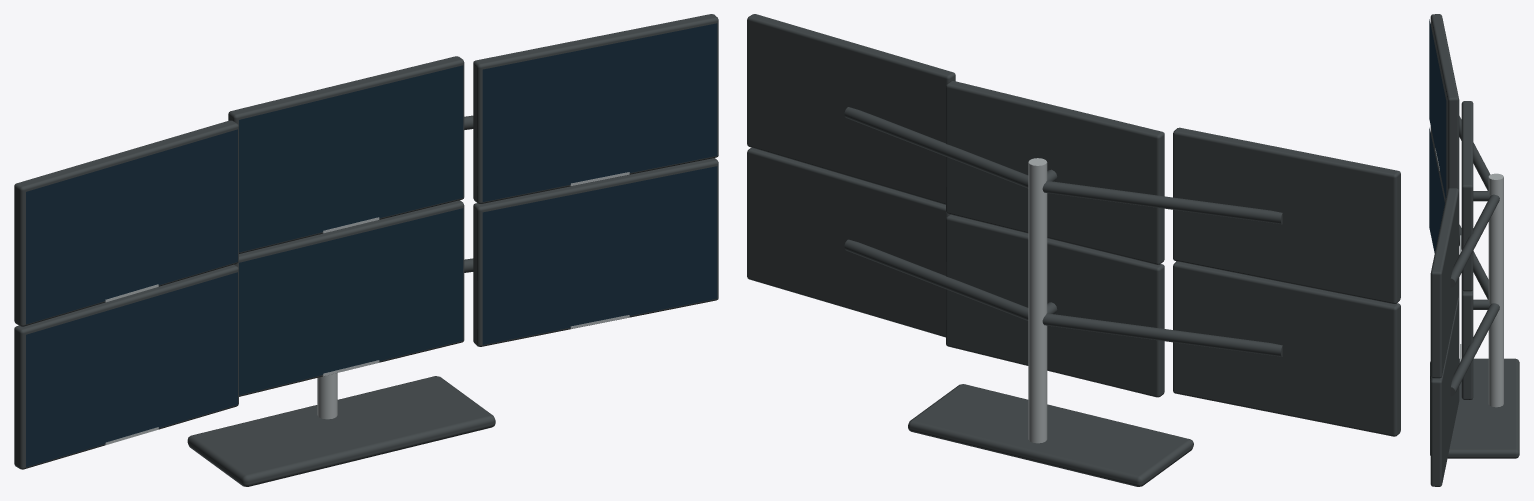
The model's file is mon_quad_trading-5fd404540a42.glb.
The picture shows the model from 3 angles, left to right: view 1: azimuth 30°, elevation 25°; view 2: azimuth 150°, elevation 25°; view 3: azimuth 270°, elevation 25°; orthographic projection. The views are drawn at different scales.
Visible parts, largest first — view 1: Screen_Surface, surface_graphite, surface_steel; view 2: surface_graphite, surface_steel; view 3: surface_graphite, surface_steel, Screen_Surface.
Part boxes in pixels (bbox=[...]): Screen_Surface: bbox=[26, 23, 717, 467]; surface_graphite: bbox=[14, 14, 718, 486]; surface_steel: bbox=[104, 172, 629, 445]; surface_graphite: bbox=[747, 14, 1400, 486]; surface_steel: bbox=[1028, 158, 1047, 443]; surface_graphite: bbox=[1430, 14, 1519, 486]; surface_steel: bbox=[1435, 148, 1503, 407]; Screen_Surface: bbox=[1429, 19, 1446, 252].
Size of the model in its own units: 1.44 by 0.6975 by 0.2116.
